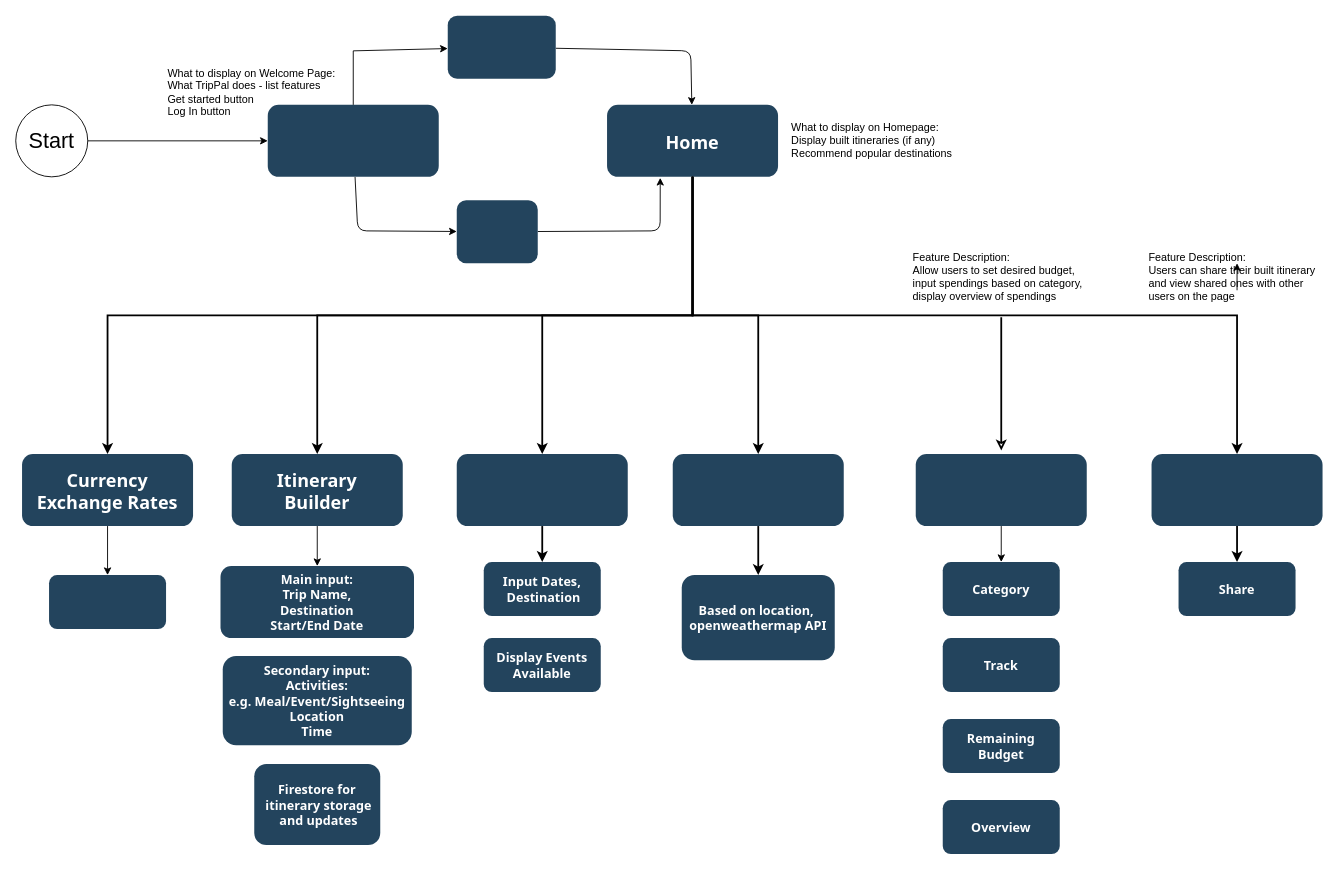
The diagram is 1343 pixels wide and 869 high, and some of its shapes have lost their labels. The box of each missing label's shape, as (x1, y1, x2, y2) in pixels:
Budgeting: (915, 454, 1086, 526)
Collaboration: (1151, 454, 1322, 526)
Destination Planning: (456, 454, 627, 526)
Fixer API: (49, 575, 166, 629)
Login: (456, 200, 537, 263)
Register: (447, 15, 555, 78)
Weather Information: (672, 454, 843, 526)
Welcome Page: (267, 104, 438, 176)
